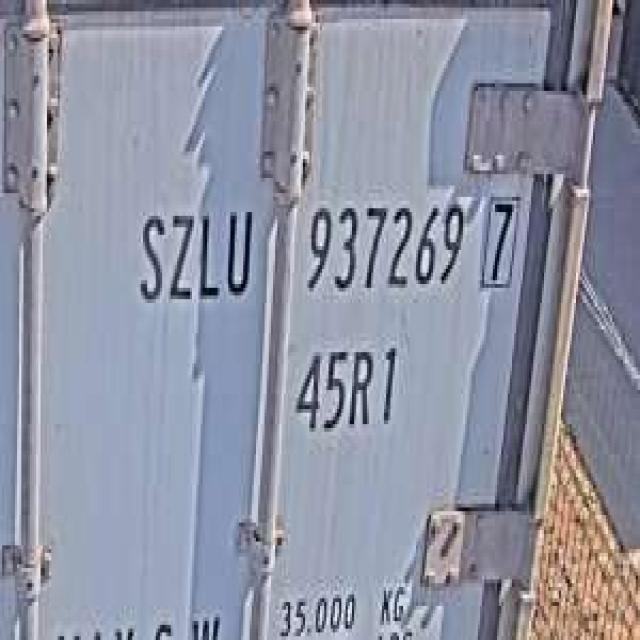dv: (476, 182, 522, 292)
owner: (132, 193, 256, 307)
serial: (299, 186, 469, 303)
size: (288, 333, 405, 443)
